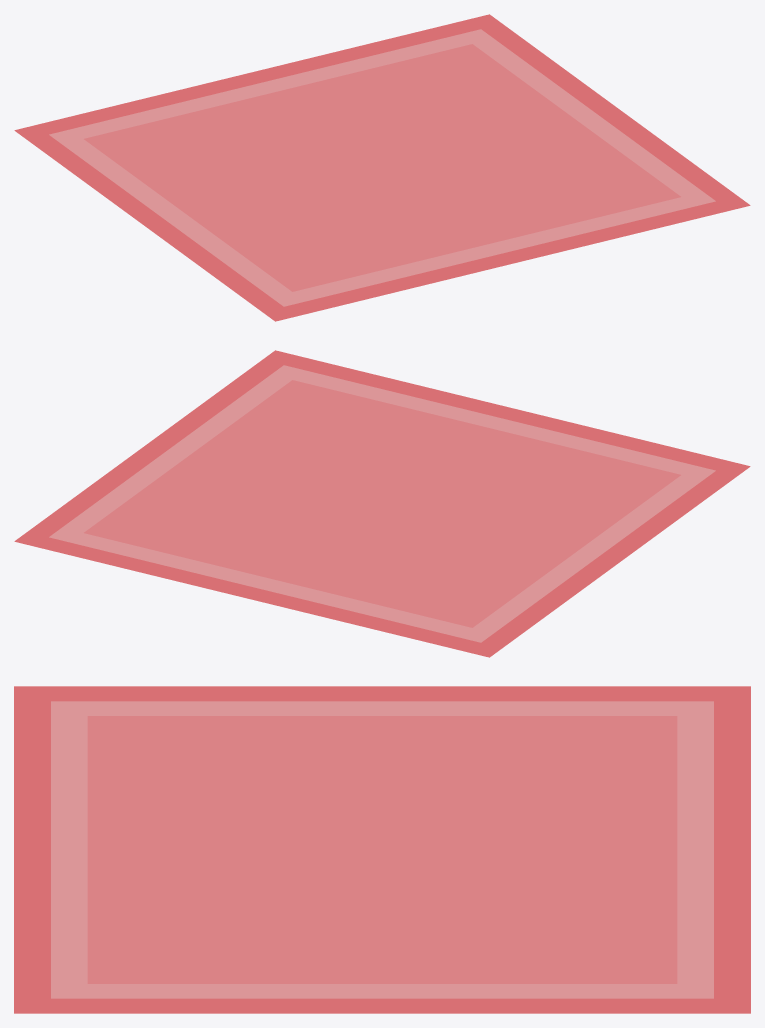
The model's file is Alfombra02.fbx.
3 views of the same model, one above another, from view 1: azimuth 30°, elevation 25°; view 2: azimuth 150°, elevation 25°; view 3: azimuth 270°, elevation 25° (orthographic). The views are drawn at different scales.
Parts seen in each view (by area): view 1: Alfombra02; view 2: Alfombra02; view 3: Alfombra02.
Boxes of the visible parts, x1,y1,x2,y2 form: Alfombra02: [14, 14, 750, 321]; Alfombra02: [14, 350, 750, 657]; Alfombra02: [14, 686, 750, 1013].
Bounding box in the file's own units: 265 × 0 × 252.
